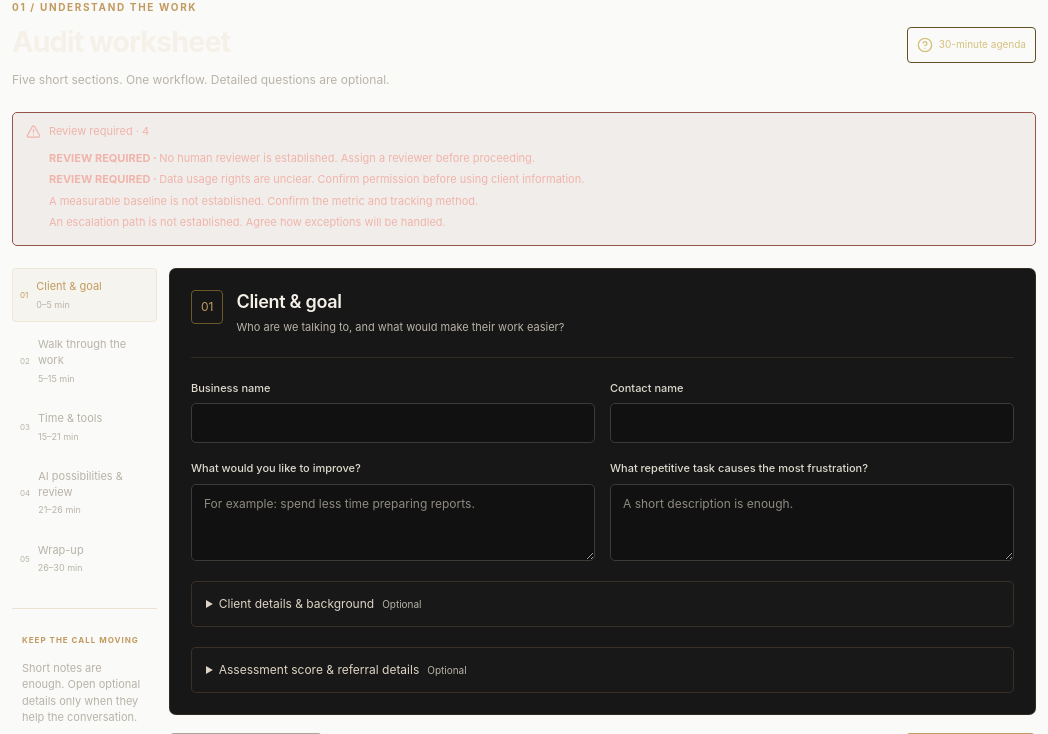
Test: short call worksheet › shows five sections and keeps detailed client questions optional
The image size is (1048, 734).
Expected: the field labelled "Business name" is shown, [191, 403, 595, 443]
Expected: the text box labelled "What would you like to improve?" is shown, [191, 484, 595, 561]
Click the text "Assessment score & referral details": (319, 670) [219, 662, 419, 677]
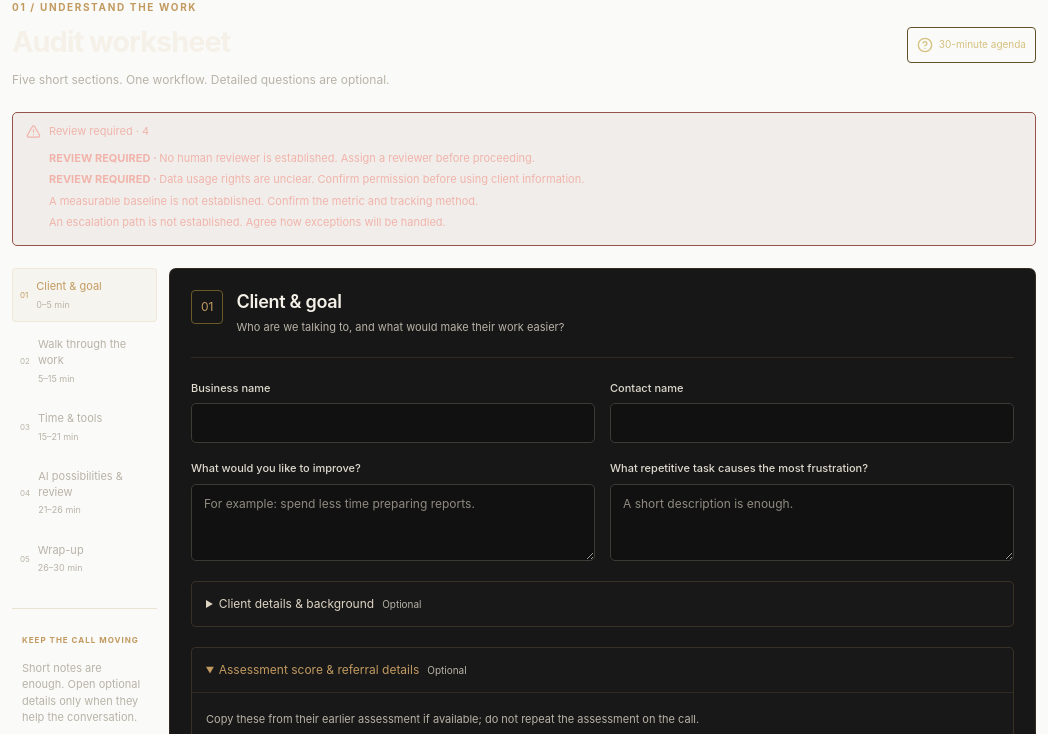
Click the button "05 Wrap-up 26–30 min": (84, 558) [12, 532, 157, 586]
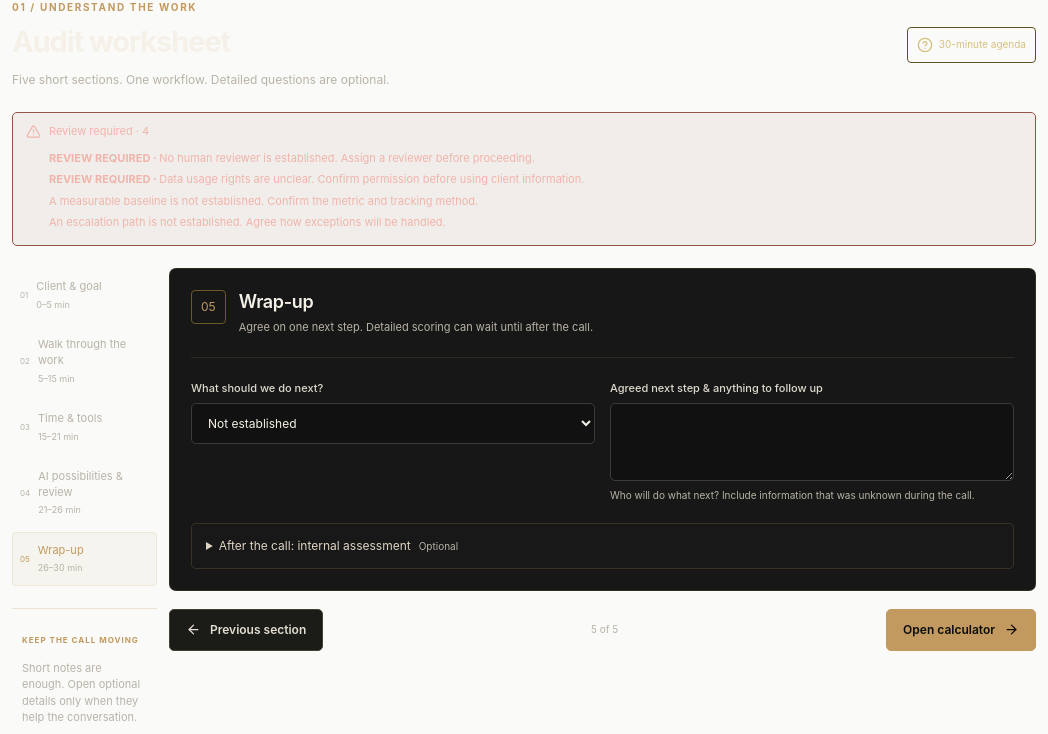
Expected: the field labelled "Process repeatability" is not shown
Click the text "After the call: internal assessment": (315, 545) [219, 538, 411, 553]
(page scrolled)
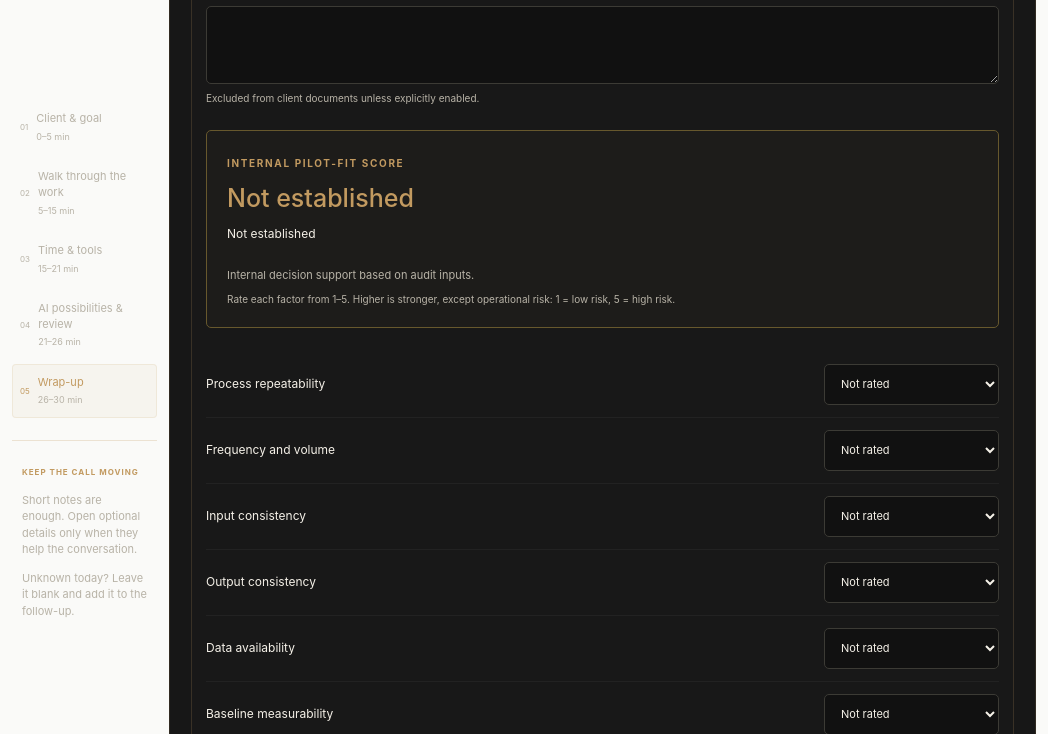
Expected: the dropdown labelled "Process repeatability" is shown, [824, 364, 999, 405]
